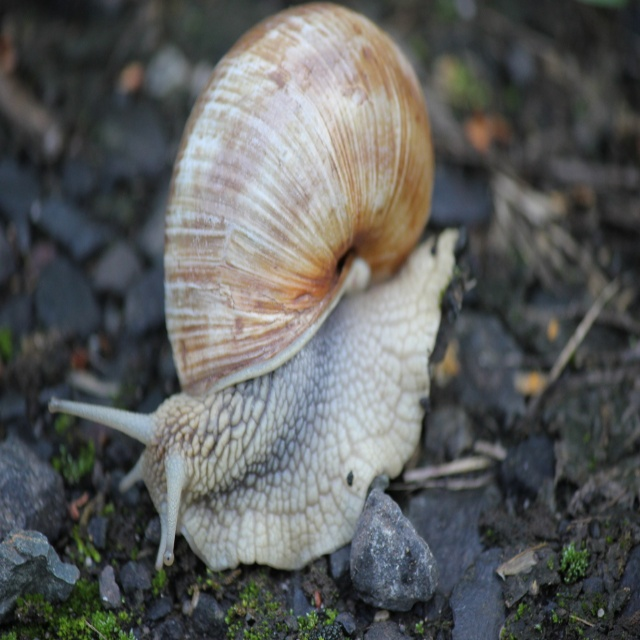Snail: (41, 5, 481, 596)
